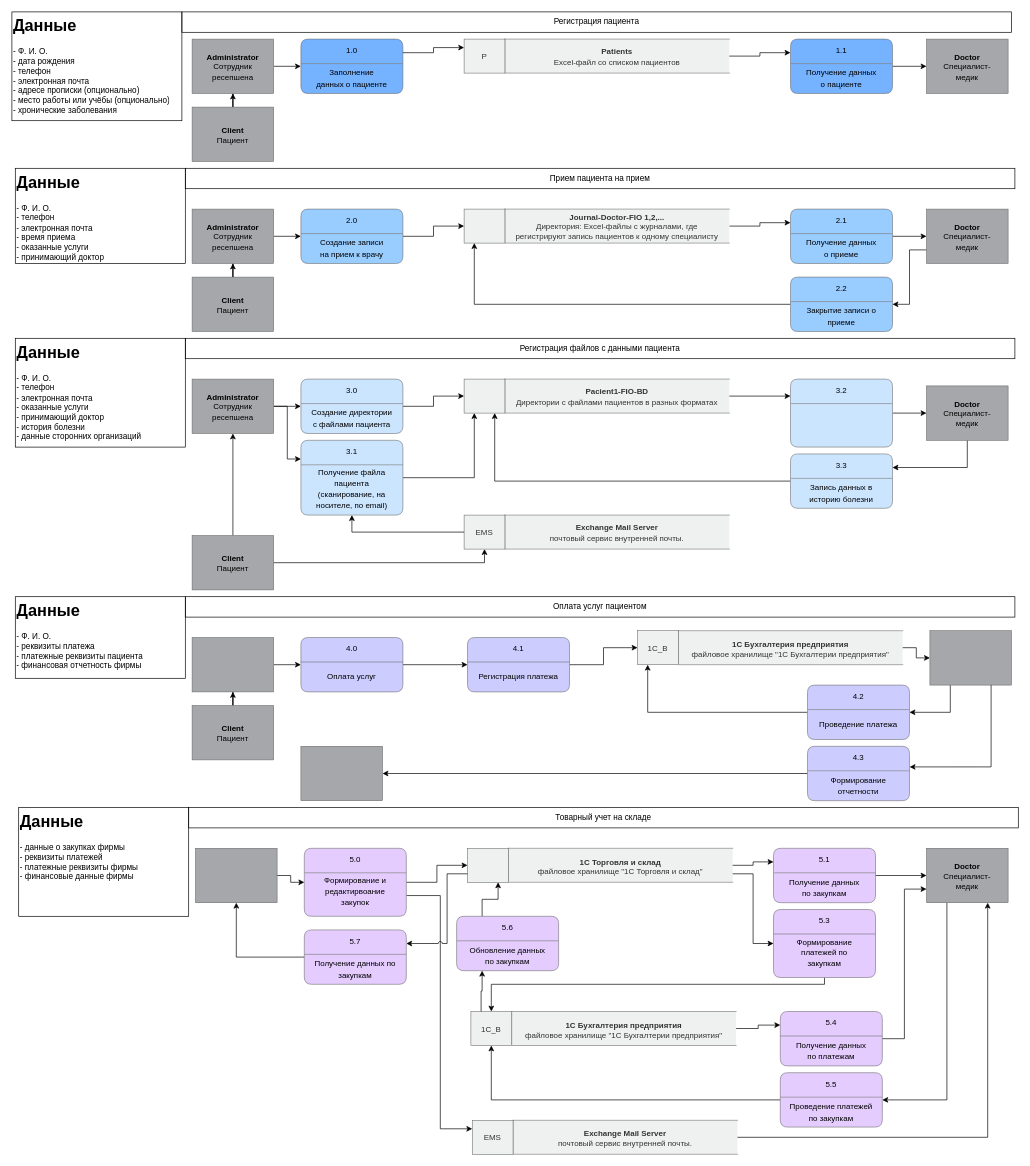
Image size: 1030x1166. Some labels were removed from this diagram. Here are the shapes that lost their labels. From the top down, the centre of each, then its label:
At (x=484, y=225): "JD".
At (x=484, y=395): "P-BD".
At (x=841, y=419): "Получение данных из файлов пациента".
At (x=232, y=664): "Cassier Кассир".
At (x=970, y=657): "Bookkeeper Бухгалтер".
At (x=341, y=773): "Tax Department Налоговое управление".
At (x=236, y=875): "Warehouse keeper Сотрудник склада".
At (x=487, y=865): "1C_S".
